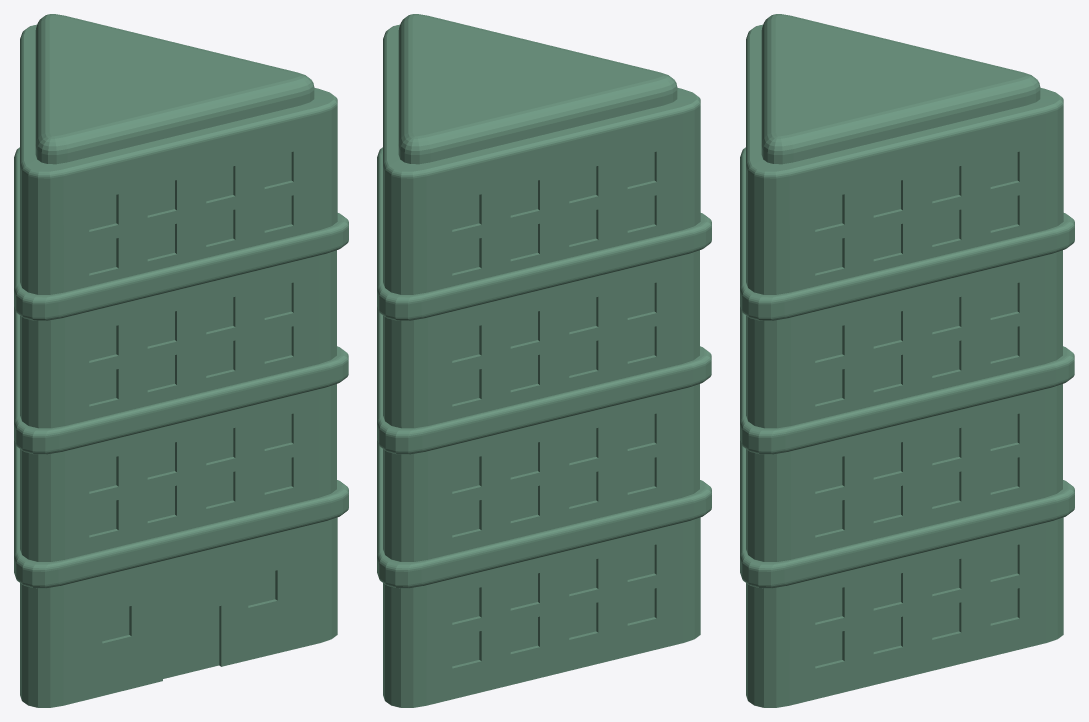
Rendered from Building4.fbx.
3 views of the same model, side by side, from view 1: azimuth 30°, elevation 25°; view 2: azimuth 150°, elevation 25°; view 3: azimuth 270°, elevation 25° (orthographic).
Parts seen in each view (by area): view 1: Cylinder; view 2: Cylinder; view 3: Cylinder.
Part boxes in pixels (box(x1,y1,x2,y2)): Cylinder: box(14, 14, 348, 707); Cylinder: box(377, 14, 711, 707); Cylinder: box(740, 14, 1074, 707).
Size of the model in its own units: 1566 by 2550 by 1391.
